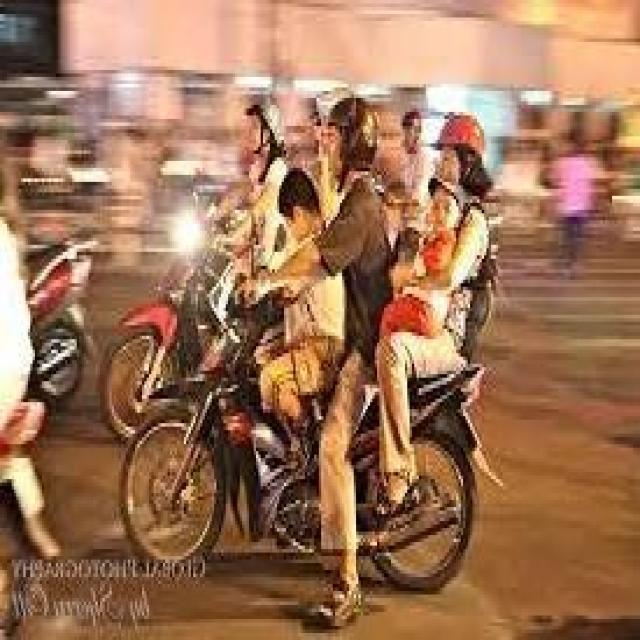motorcycle: (117, 274, 495, 616)
person: (398, 90, 501, 480), (318, 90, 398, 437), (264, 164, 342, 461), (412, 176, 469, 414)
rider_region: (125, 97, 485, 576)
